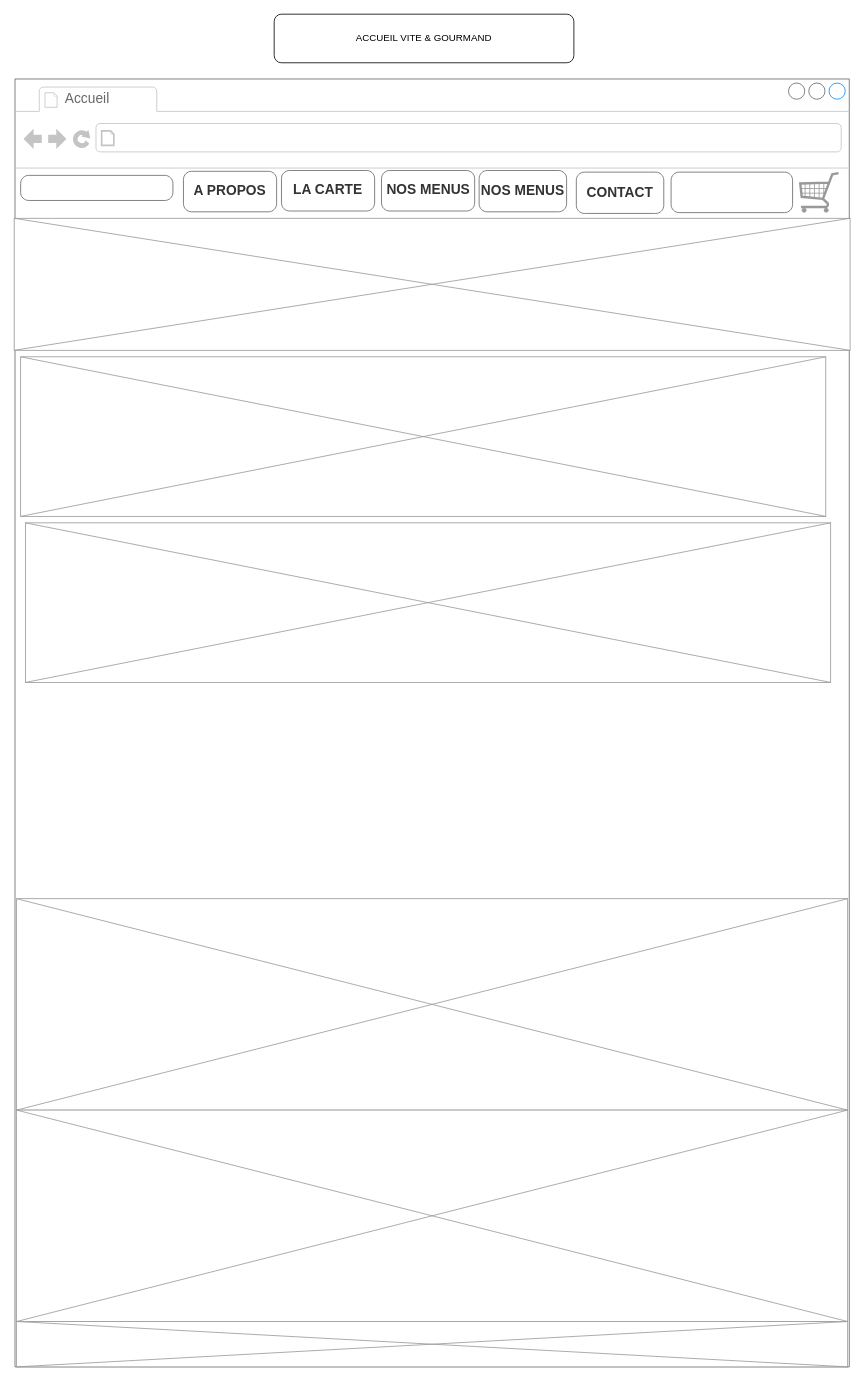
This 864x1381 diagram has some shape labels left out. The box of each missing label's shape, as (x1, y1, x2, y2) in pixels:
connexion: (670, 171, 793, 213)
https://www.vite&gourmand.fr: (119, 127, 323, 149)
VITE ET GOURMAND: (20, 175, 173, 200)
